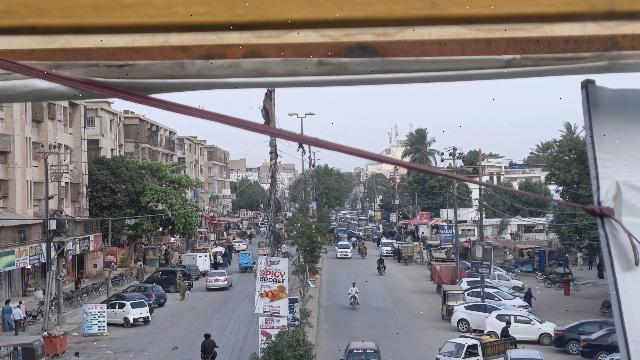Bike: (349, 292, 360, 311), (377, 262, 387, 277)
Car: (483, 308, 556, 344), (451, 302, 514, 330), (465, 286, 530, 312), (106, 299, 153, 327), (128, 281, 168, 306), (340, 340, 383, 360), (206, 269, 235, 290)
Person: (11, 304, 25, 334), (175, 275, 190, 302), (201, 330, 215, 354), (500, 317, 514, 339), (346, 280, 362, 295), (377, 254, 386, 265)
Rickshaw: (433, 332, 518, 360), (439, 283, 465, 321), (238, 250, 255, 272)
Van: (335, 241, 352, 259)
